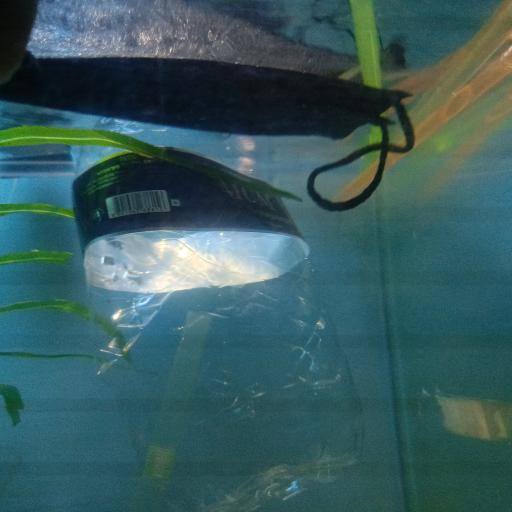mask: (2, 8, 418, 214)
plastic_bottle: (66, 101, 371, 512)
plastic_straw: (342, 14, 512, 203), (343, 0, 396, 160)
